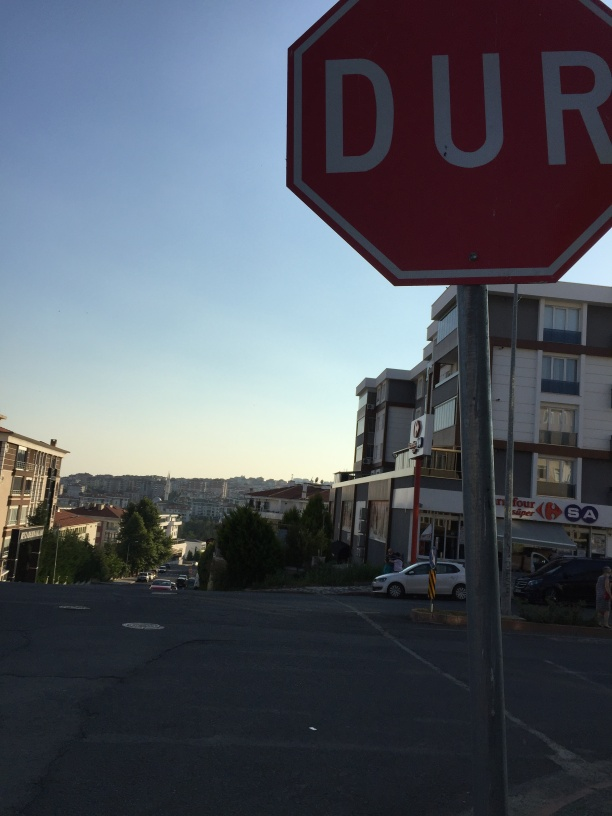arac_dur_isareti: (256, 21, 604, 576)
